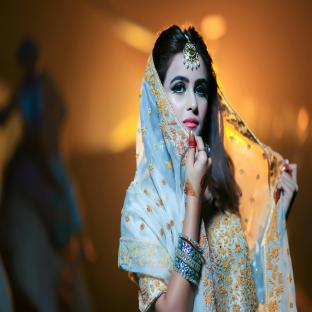Human: (118, 25, 298, 312)
